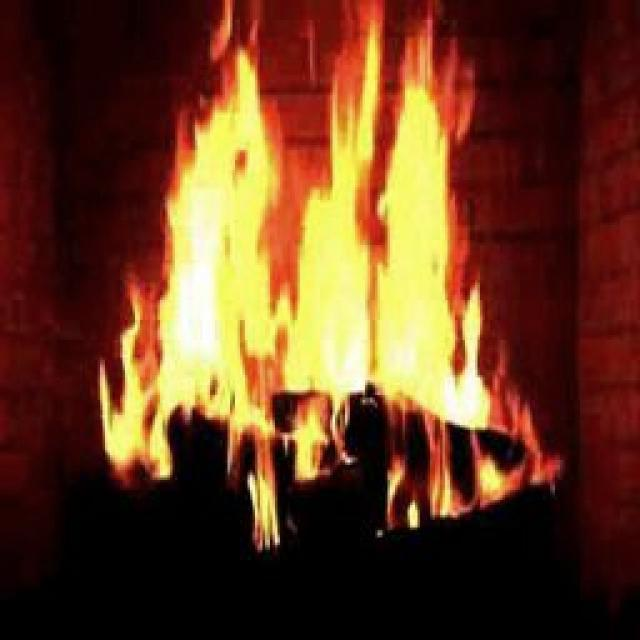Fire: (105, 50, 503, 452)
